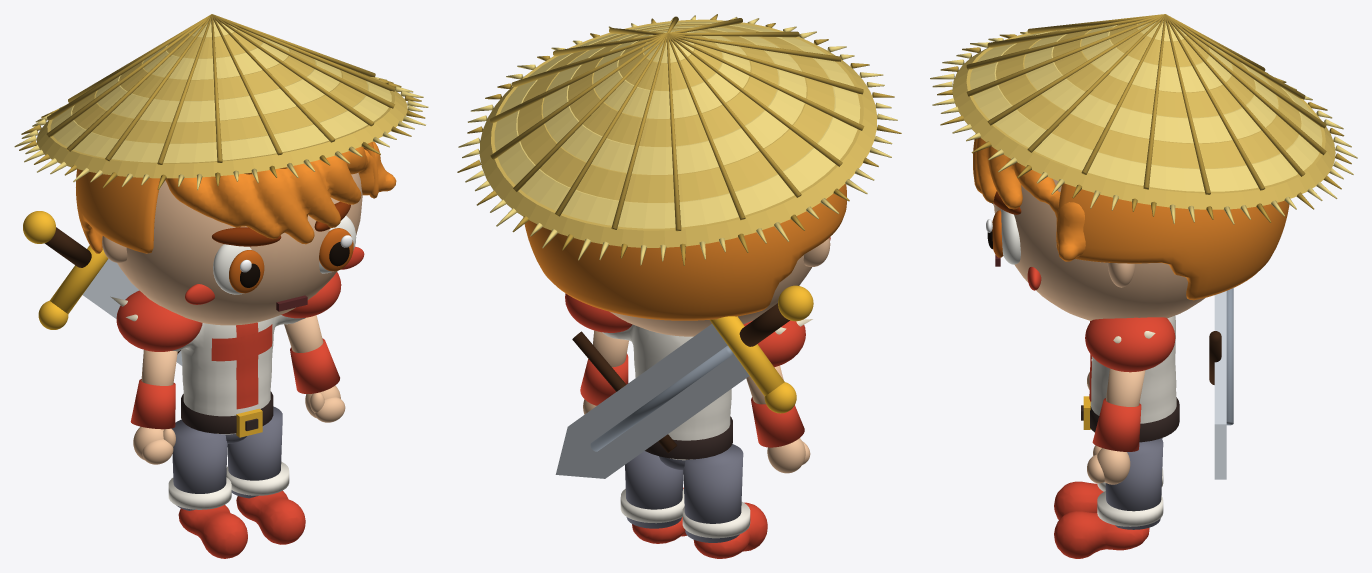
The model's file is iop3.glb.
3 renders of one model, left to right at view 1: azimuth 30°, elevation 25°; view 2: azimuth 150°, elevation 25°; view 3: azimuth 270°, elevation 25°, orthographic. The views are drawn at different scales.
Parts seen in each view (by area): view 1: crane, meches, cone, cone_bord, cone.001, cheveux, tunique, cone.002, cone.003, jambe, epauliere, jambe.001 (+39 smaller); view 2: cheveux, cone, cone.001, cone_bord, lame, cone.002, cone.003, cone.004, jambe, tunique, jambe.001, cone.005 (+33 smaller); view 3: cheveux, crane, cone, cone.001, cone_bord, cone.002, cone.003, meches, epauliere.001, cone.004, jambe.001, botte.001 (+26 smaller).
Boxes of the visible parts, x1=… form: crane: x1=117, y1=172, x2=362, y2=325; meches: x1=165, y1=141, x2=396, y2=244; cone: x1=50, y1=69, x2=391, y2=162; cone_bord: x1=37, y1=77, x2=407, y2=178; cone.001: x1=72, y1=70, x2=367, y2=143; cheveux: x1=76, y1=142, x2=378, y2=253; tunique: x1=172, y1=315, x2=305, y2=434; cone.002: x1=95, y1=59, x2=341, y2=122; cone.003: x1=119, y1=48, x2=315, y2=100; jambe: x1=171, y1=419, x2=227, y2=510; epauliere: x1=116, y1=290, x2=202, y2=351; jambe.001: x1=227, y1=406, x2=282, y2=498; cheveux: x1=523, y1=184, x2=846, y2=320; cone: x1=494, y1=21, x2=860, y2=228; cone.001: x1=517, y1=23, x2=834, y2=202; cone_bord: x1=479, y1=19, x2=877, y2=247; lame: x1=555, y1=324, x2=749, y2=478; cone.002: x1=542, y1=25, x2=806, y2=174; cone.003: x1=568, y1=28, x2=778, y2=146; cone.004: x1=593, y1=30, x2=750, y2=118; jambe: x1=683, y1=444, x2=743, y2=542; tunique: x1=602, y1=324, x2=731, y2=460; jambe.001: x1=625, y1=451, x2=683, y2=528; cone.005: x1=618, y1=32, x2=722, y2=90; cheveux: x1=1056, y1=183, x2=1289, y2=300; crane: x1=994, y1=179, x2=1204, y2=320; cone: x1=970, y1=30, x2=1322, y2=191; cone.001: x1=995, y1=27, x2=1301, y2=168; cone_bord: x1=952, y1=33, x2=1335, y2=209; cone.002: x1=1024, y1=26, x2=1278, y2=143; cone.003: x1=1052, y1=29, x2=1255, y2=117; meches: x1=973, y1=133, x2=1085, y2=261; epauliere.001: x1=1085, y1=317, x2=1175, y2=372; cone.004: x1=1081, y1=25, x2=1232, y2=92; jambe.001: x1=1105, y1=438, x2=1163, y2=529; botte.001: x1=1054, y1=511, x2=1149, y2=558.
Bounding box in the file's own units: 2.5 × 3.35 × 2.46.
